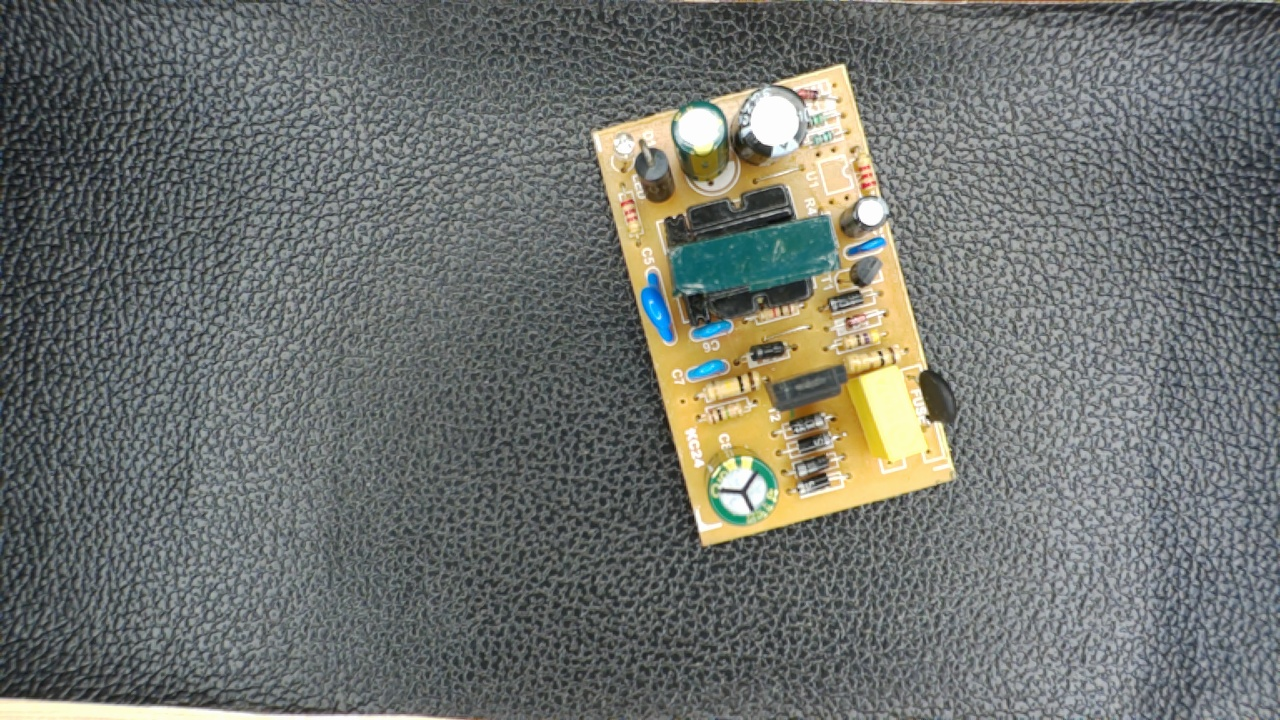fuse: (902, 363, 959, 441)
hv_capacitor: (701, 443, 783, 531)
mov: (633, 269, 681, 348)
